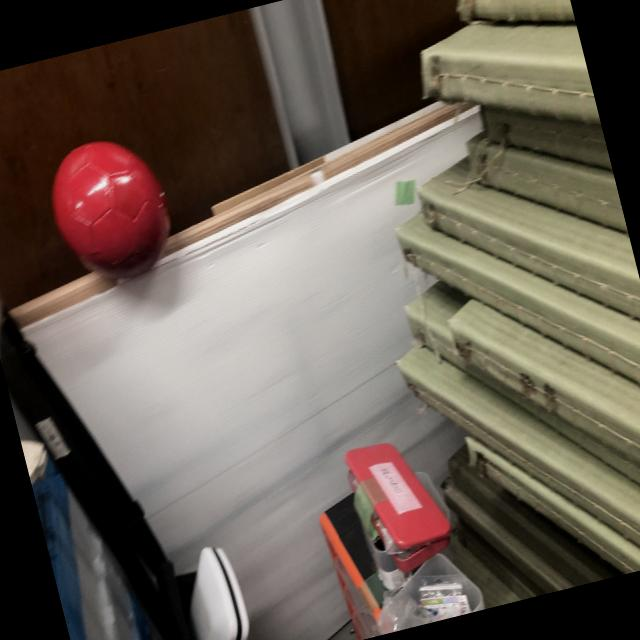red_ball: (41, 127, 182, 292)
